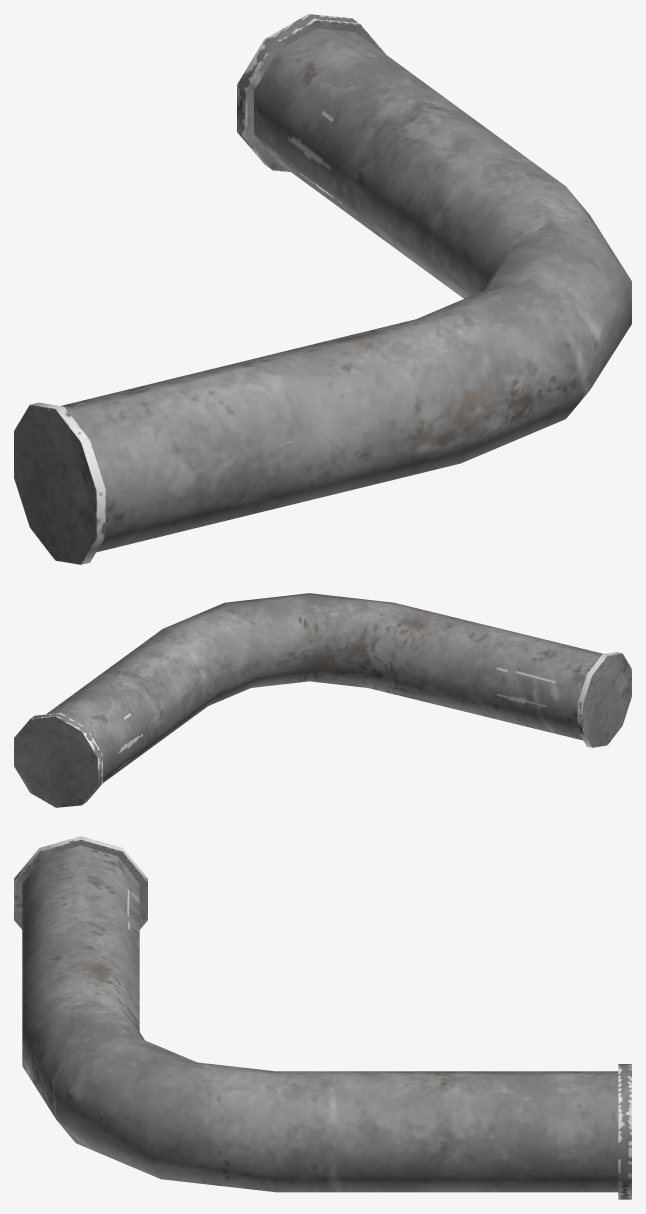
The model's file is bendPipeV2.fbx.
3 renders of one model, top to bottom at view 1: azimuth 30°, elevation 25°; view 2: azimuth 150°, elevation 25°; view 3: azimuth 270°, elevation 25°, orthographic. The views are drawn at different scales.
Parts seen in each view (by area): view 1: bendPipeKit_GEO; view 2: bendPipeKit_GEO; view 3: bendPipeKit_GEO.
Boxes of the visible parts, x1,y1,x2,y2 form: bendPipeKit_GEO: [14, 14, 631, 564]; bendPipeKit_GEO: [14, 593, 631, 807]; bendPipeKit_GEO: [14, 836, 631, 1199].
Bounding box in the file's own units: 0.1008 × 0.0224 × 0.1003.
